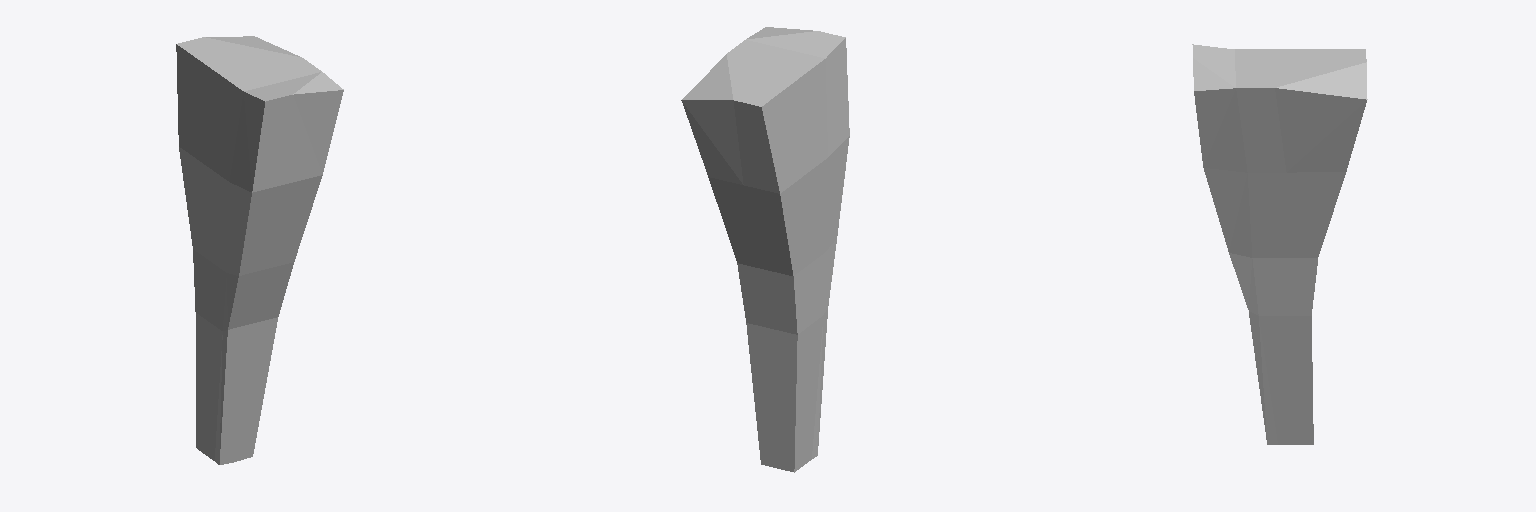
The model's file is RightFoot.obj.
3 views of the same model, side by side, from view 1: azimuth 30°, elevation 25°; view 2: azimuth 150°, elevation 25°; view 3: azimuth 270°, elevation 25° (orthographic).
Parts seen in each view (by area): view 1: 体.001; view 2: 体.001; view 3: 体.001.
Boxes of the visible parts, x1,y1,x2,y2 form: 体.001: [176, 36, 343, 464]; 体.001: [681, 27, 849, 472]; 体.001: [1192, 44, 1367, 444].
Size of the model in its own units: 0.3778 by 1.56 by 0.6355.